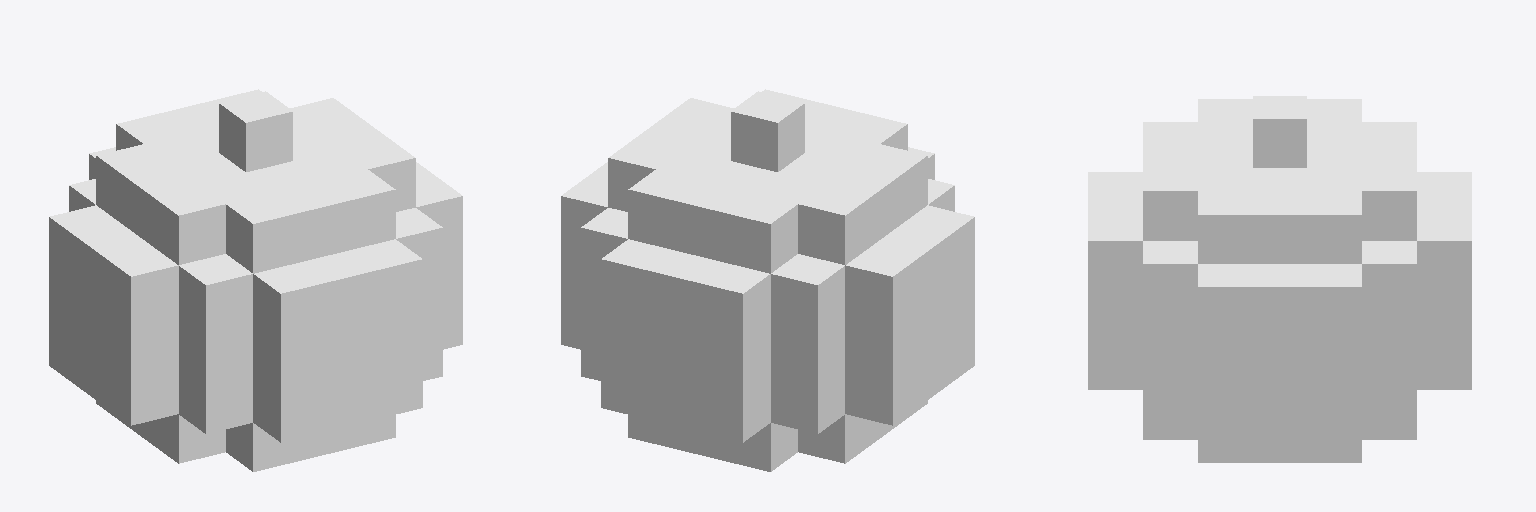
The model's file is shrub1.obj.
3 views of the same model, side by side, from view 1: azimuth 30°, elevation 25°; view 2: azimuth 150°, elevation 25°; view 3: azimuth 270°, elevation 25° (orthographic).
Parts seen in each view (by area): view 1: object 1; view 2: object 1; view 3: object 1.
Boxes of the visible parts, <box> form: object 1: <box>49,89,462,471</box>; object 1: <box>561,89,974,471</box>; object 1: <box>1088,96,1471,462</box>.
Size of the model in its own units: 0.7 by 0.6 by 0.7.